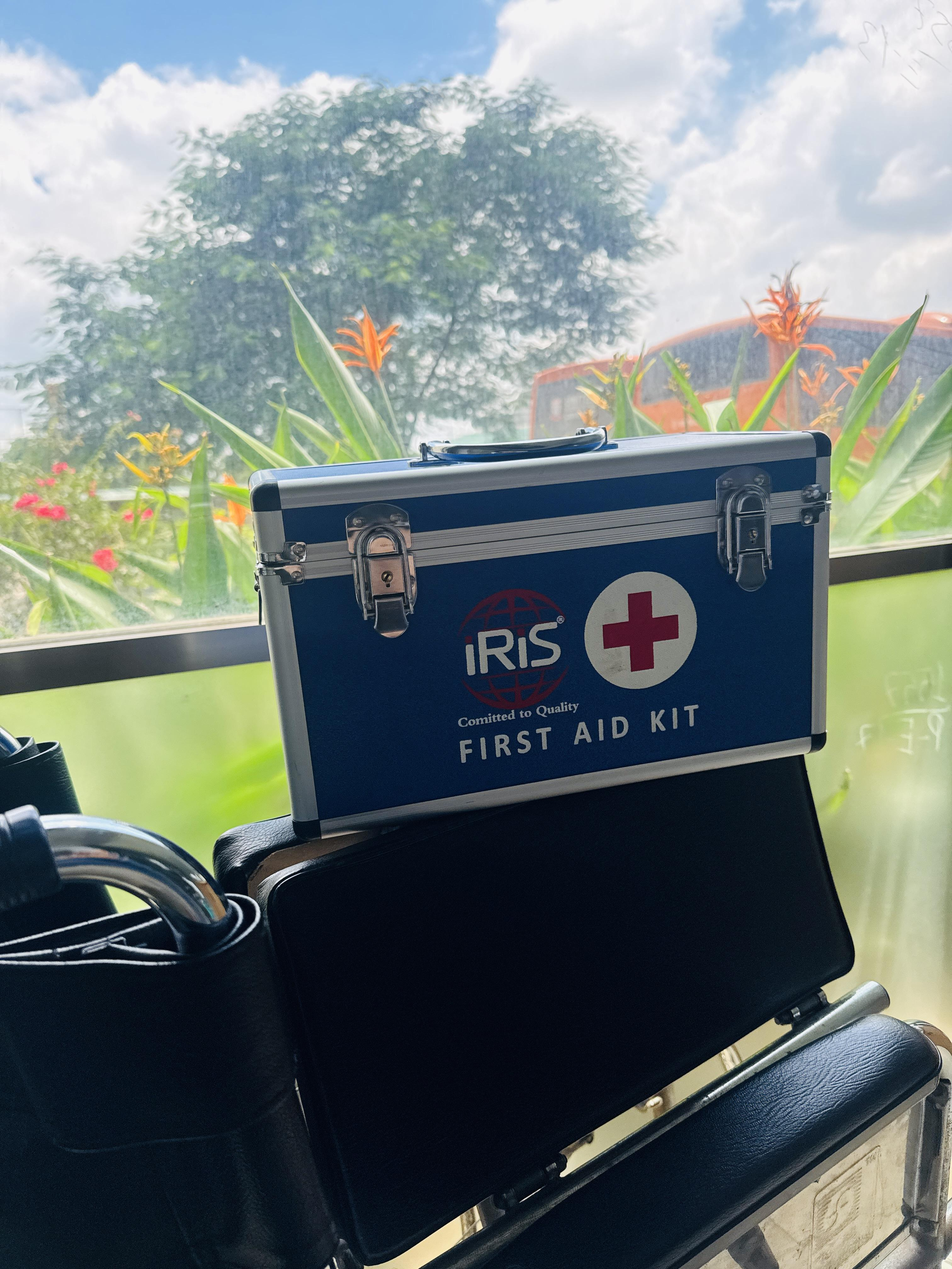FirstAidBox: (217, 396, 861, 849)
